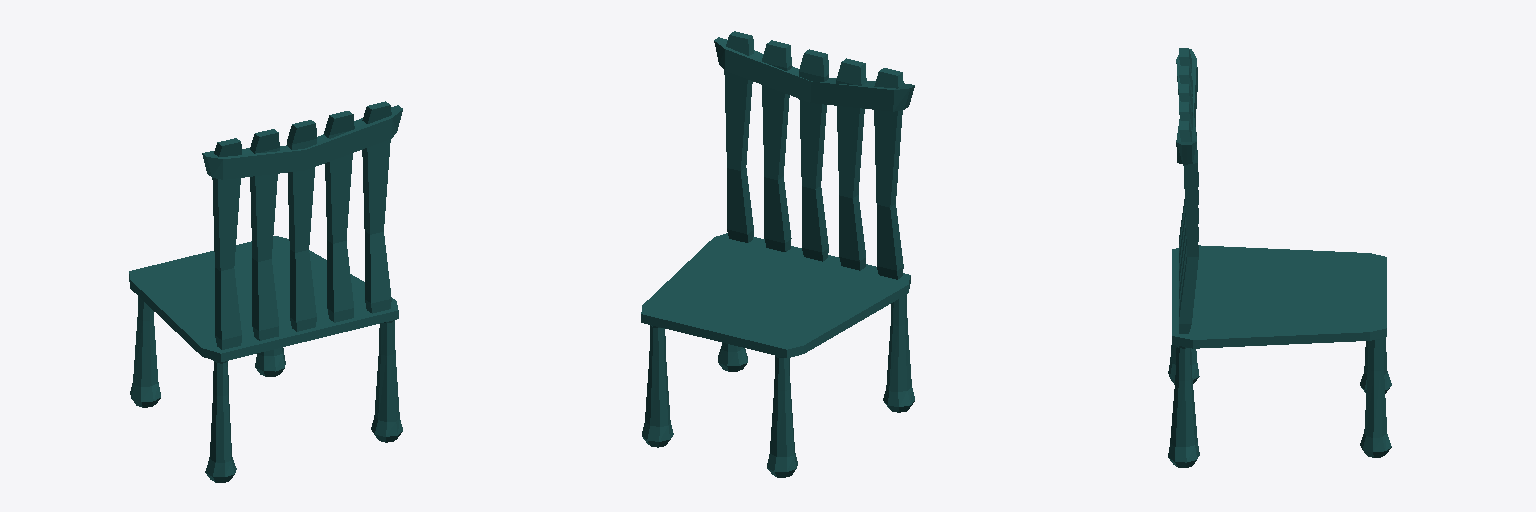
Rendered from ChairExport.obj.
3 views of the same model, side by side, from view 1: azimuth 30°, elevation 25°; view 2: azimuth 150°, elevation 25°; view 3: azimuth 270°, elevation 25° (orthographic).
Visible parts, largest first — view 1: buttpartShape; view 2: buttpartShape; view 3: buttpartShape.
Boxes of the visible parts, x1=… form: buttpartShape: x1=129, y1=101, x2=402, y2=482; buttpartShape: x1=641, y1=31, x2=914, y2=477; buttpartShape: x1=1168, y1=48, x2=1391, y2=467.
Size of the model in its own units: 4.73 by 7.7 by 4.68.